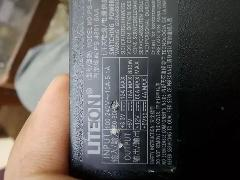electronic: (67, 0, 178, 180)
